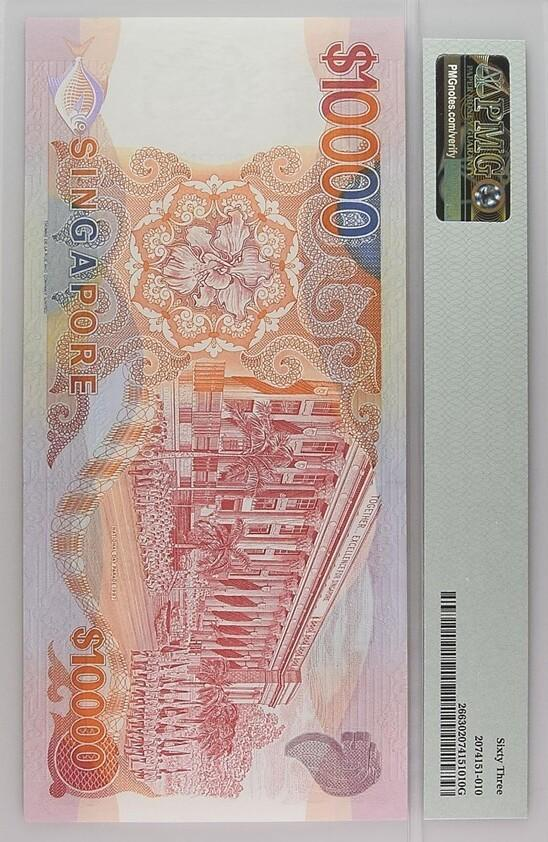10000SingaporeDollar: (28, 19, 403, 817)
